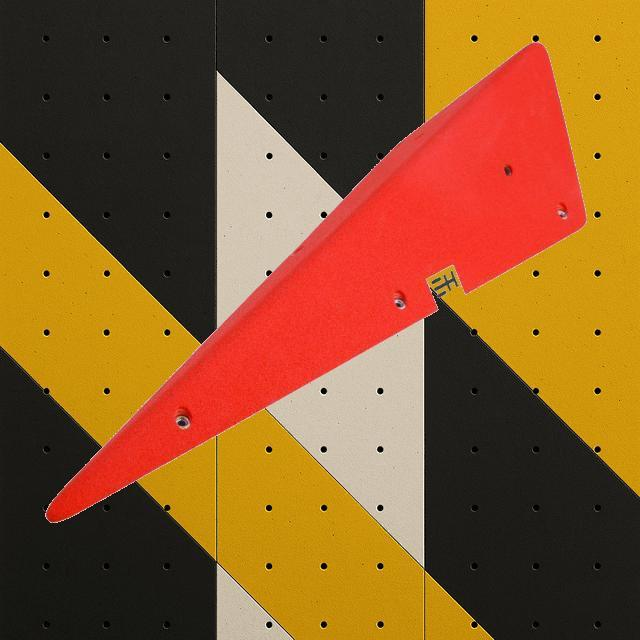Volume: (45, 41, 588, 524)
